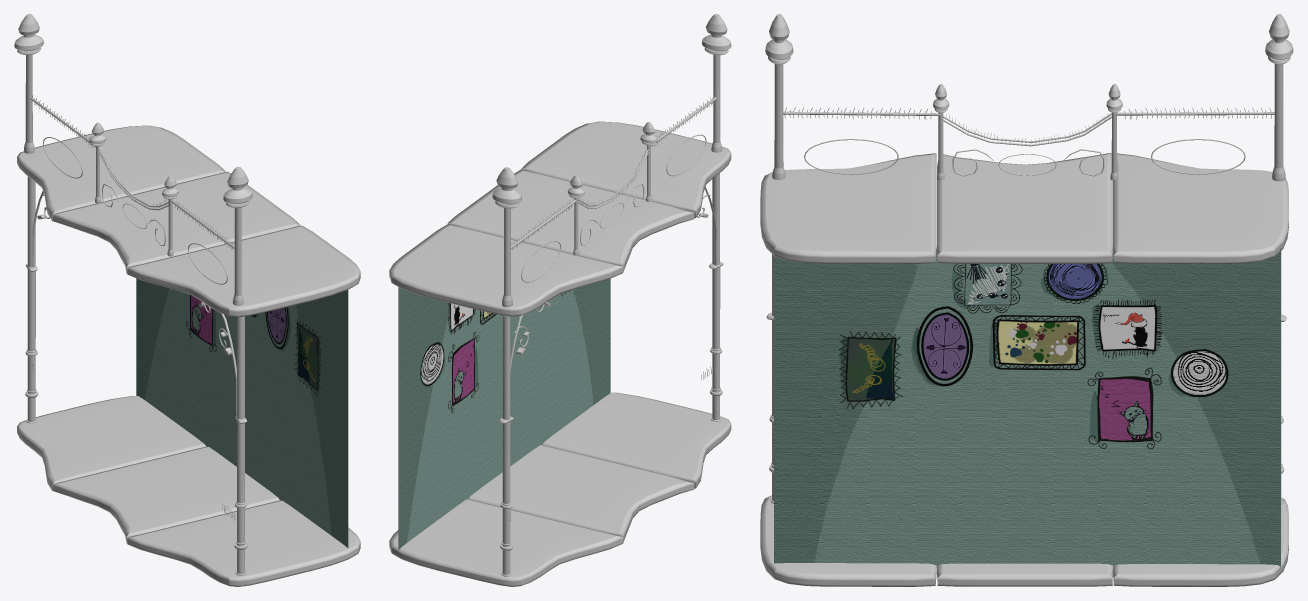
Rendered from da  shangjing  jian mo.FBX.
3 renders of one model, left to right at view 1: azimuth 30°, elevation 25°; view 2: azimuth 150°, elevation 25°; view 3: azimuth 270°, elevation 25°, orthographic. The views are drawn at different scales.
Parts seen in each view (by area): view 1: Plane002, Box019, Box001, Box023, Box021, Box020, Box022, Line204, Line650, Line250, Line006, Line249 (+1 smaller); view 2: Plane002, Box020, Box022, Box001, Box021, Box019, Box023, Line204, Line650, Line006, Line250, Line249 (+1 smaller); view 3: Plane002, Box001, Box019, Box020, Box023, Box022, Box021, Line007, Line249, Line250, Line006.
Boxes of the visible parts, x1,y1,x2,y2 form: Plane002: (136,278,348,547); Box019: (127,225,360,316); Box001: (52,171,300,273); Box023: (127,500,360,586); Box021: (52,446,279,543); Box020: (17,125,225,221); Box022: (17,396,205,490); Line204: (25,176,38,423); Line650: (234,316,247,575); Line250: (223,167,252,207); Line006: (14,14,43,54); Line249: (232,207,243,305); Plane002: (398,278,610,551); Box020: (389,224,623,316); Box022: (389,499,623,586); Box001: (447,169,694,271); Box021: (469,445,694,542); Box019: (521,121,731,218); Box023: (542,392,731,488); Line204: (499,315,513,576); Line650: (709,173,723,421); Line006: (492,167,521,208); Line250: (701,14,731,55); Line249: (711,54,722,152); Plane002: (774,248,1280,567); Box001: (937,153,1112,263); Box019: (760,153,936,263); Box020: (1113,153,1288,263); Box023: (760,495,936,586); Box022: (1113,498,1288,586); Box021: (937,563,1112,586); Line007: (1272,64,1285,181); Line249: (772,64,785,179); Line250: (765,14,793,64); Line006: (1265,14,1293,64).
Size of the model in its own units: 40.38 by 90.48 by 87.78.
